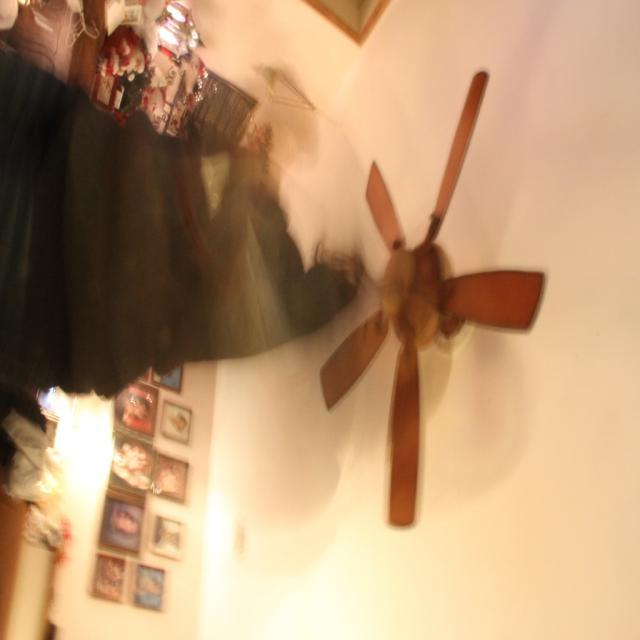fan_off: (316, 71, 544, 528)
